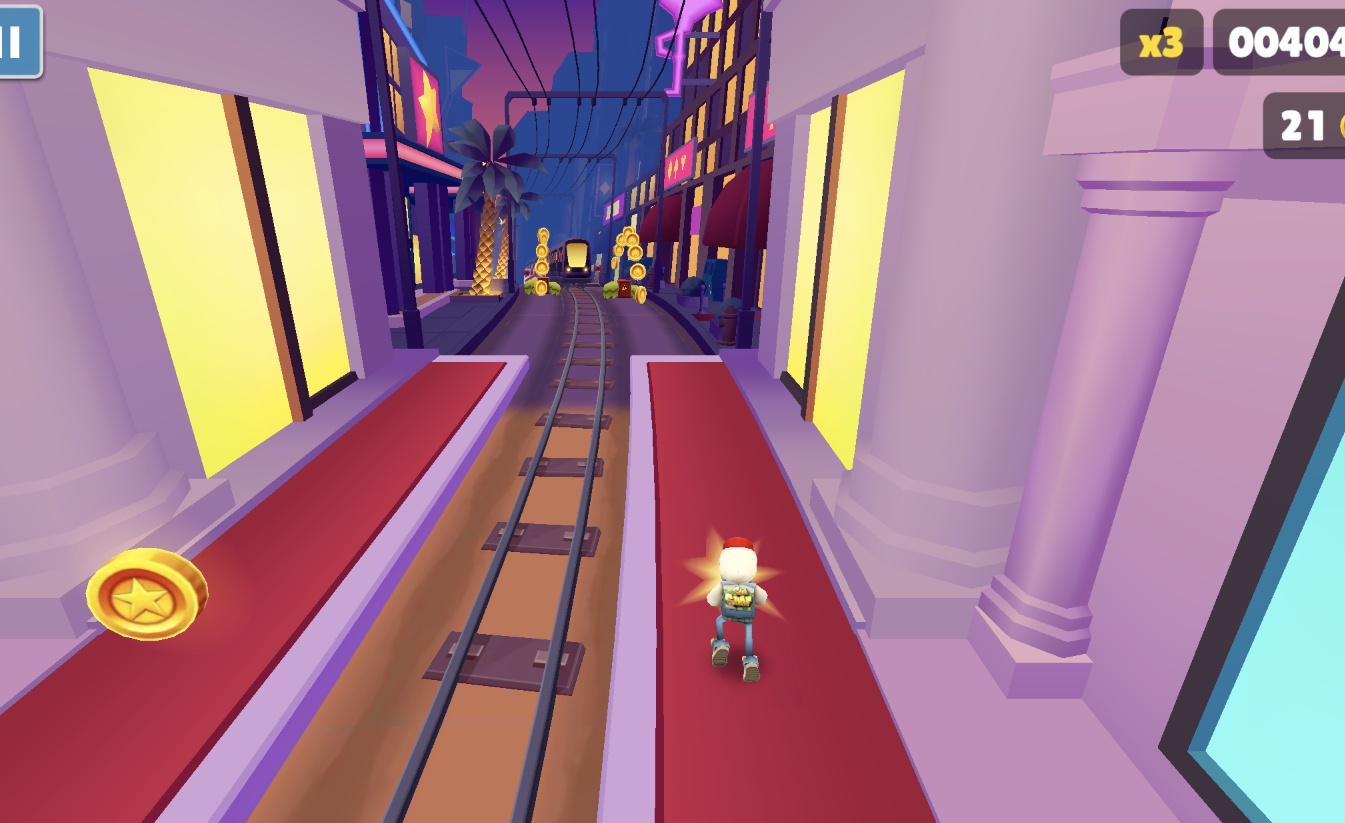bush: (598, 279, 613, 297), (628, 282, 644, 296), (516, 280, 530, 295), (543, 281, 555, 294)
small_obstacle: (613, 275, 628, 294), (530, 276, 543, 294)
train: (554, 236, 597, 288)
